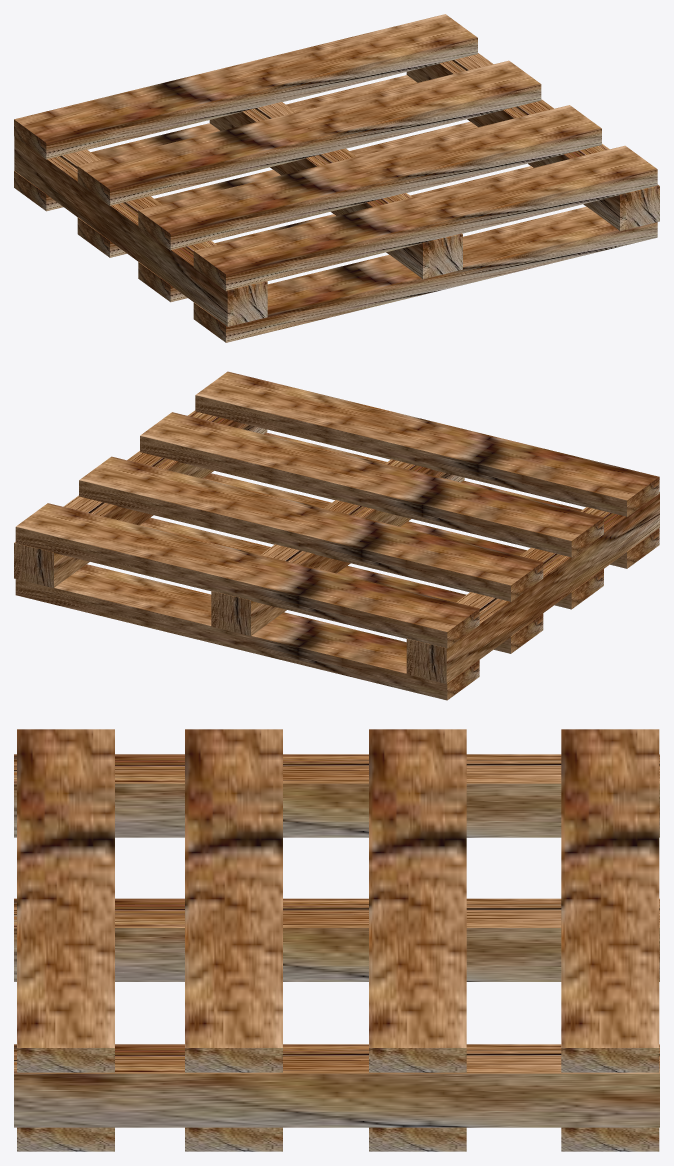
File: Pallet.fbx
3 renders of one model, top to bottom at view 1: azimuth 30°, elevation 25°; view 2: azimuth 150°, elevation 25°; view 3: azimuth 270°, elevation 25°, orthographic. The views are drawn at different scales.
Visible parts, largest first — view 1: pCube12, pCube10, pCube11, pCube9, pCube14, pCube18, pCube19, pCube13, pCube17, pCube16, pCube15; view 2: pCube12, pCube10, pCube9, pCube11, pCube17, pCube18, pCube13, pCube19, pCube16, pCube15, pCube14; view 3: pCube19, pCube9, pCube10, pCube11, pCube12, pCube18, pCube13, pCube17, pCube15, pCube14, pCube16.
Part boxes in pixels (x1,y1,x2,y2): pCube12: [193, 145, 657, 291]; pCube10: [77, 60, 541, 205]; pCube11: [138, 105, 601, 250]; pCube9: [14, 14, 477, 159]; pCube14: [193, 206, 657, 342]; pCube18: [14, 136, 267, 326]; pCube19: [406, 53, 659, 231]; pCube13: [209, 102, 462, 279]; pCube17: [14, 75, 417, 211]; pCube16: [77, 121, 477, 257]; pCube15: [138, 166, 533, 302]; pCube12: [195, 371, 659, 516]; pCube10: [79, 456, 543, 602]; pCube9: [15, 503, 479, 648]; pCube11: [140, 412, 603, 557]; pCube17: [15, 564, 479, 700]; pCube18: [406, 492, 659, 683]; pCube13: [211, 459, 464, 636]; pCube19: [14, 410, 267, 587]; pCube16: [139, 517, 543, 653]; pCube15: [203, 473, 603, 609]; pCube14: [264, 432, 659, 568]; pCube19: [14, 1044, 659, 1127]; pCube9: [561, 729, 659, 1072]; pCube10: [369, 729, 466, 1072]; pCube11: [185, 729, 282, 1072]; pCube12: [17, 729, 114, 1072]; pCube18: [14, 754, 659, 837]; pCube13: [14, 898, 659, 981]; pCube17: [561, 1127, 659, 1151]; pCube15: [185, 1127, 282, 1151]; pCube14: [17, 1127, 114, 1151]; pCube16: [369, 1127, 466, 1151].
Size of the model in its own units: 584 by 88.16 by 499.
